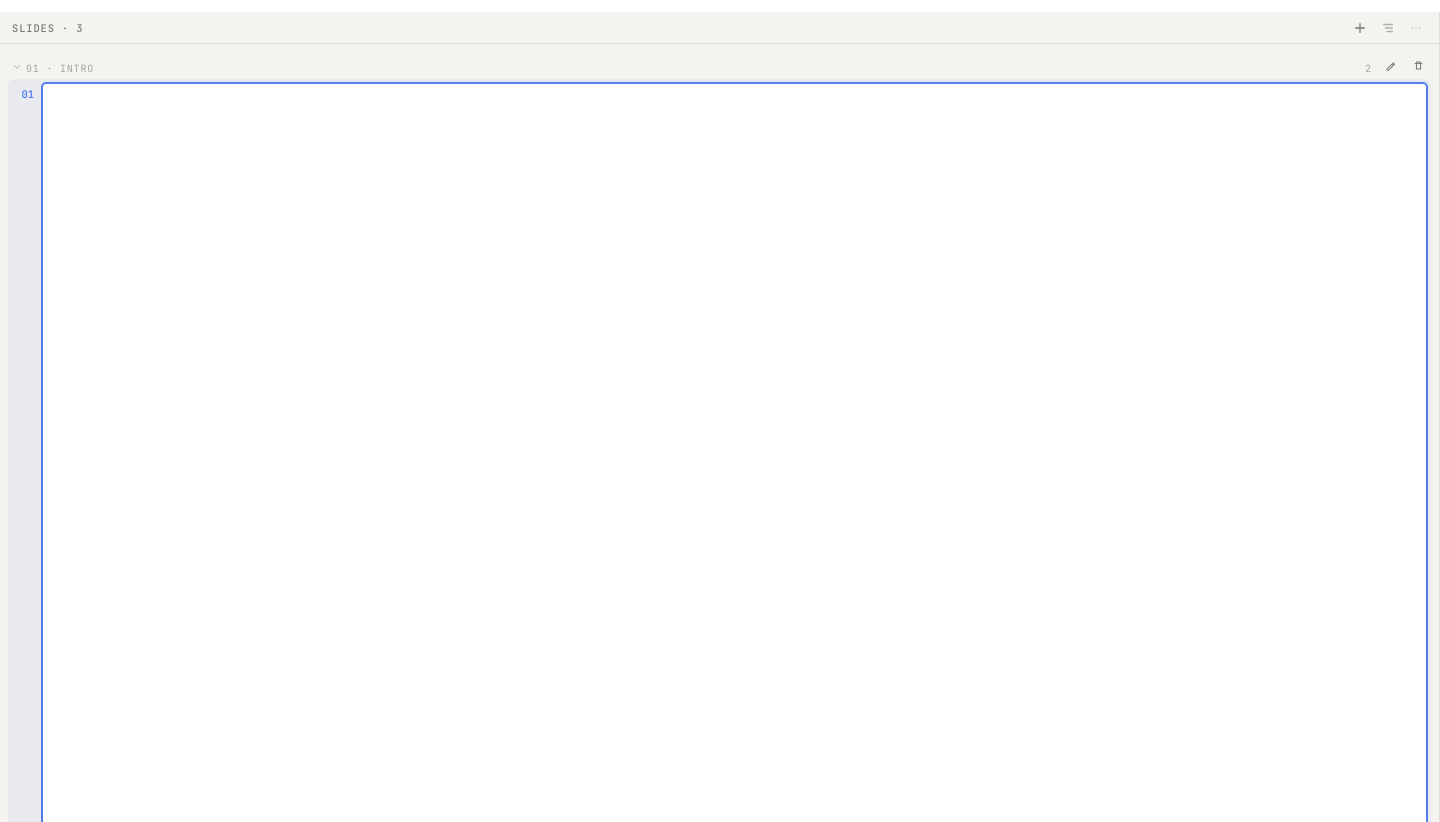
Test case: section rename and delete › clicking the rename button shows an input pre-filled with the section name
Click the button titled "Rename: Intro" at (1390, 66), box 1377,52 -> 1403,78
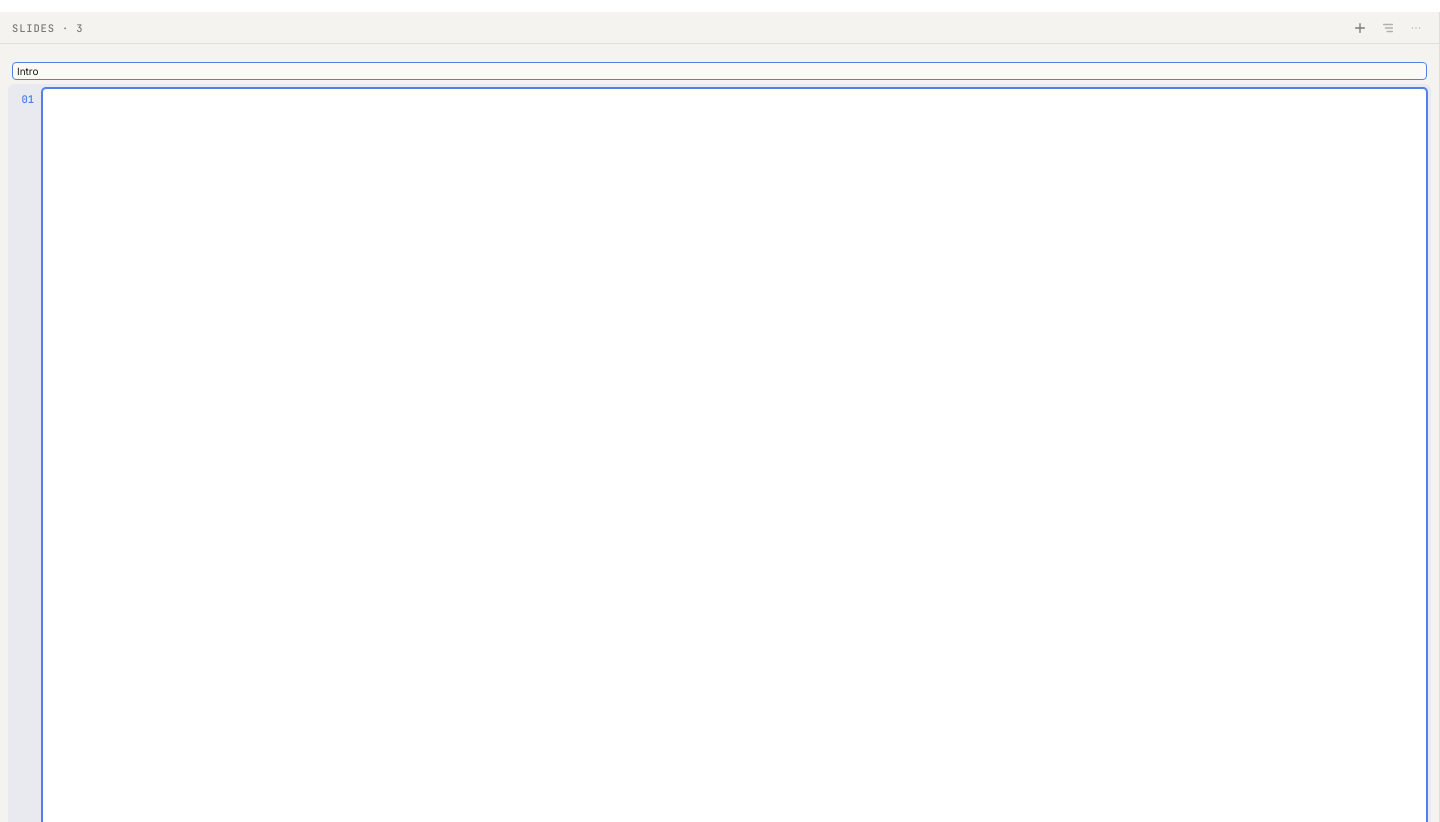
Now the field showing "Intro" is shown, box 12,62 -> 1427,80
